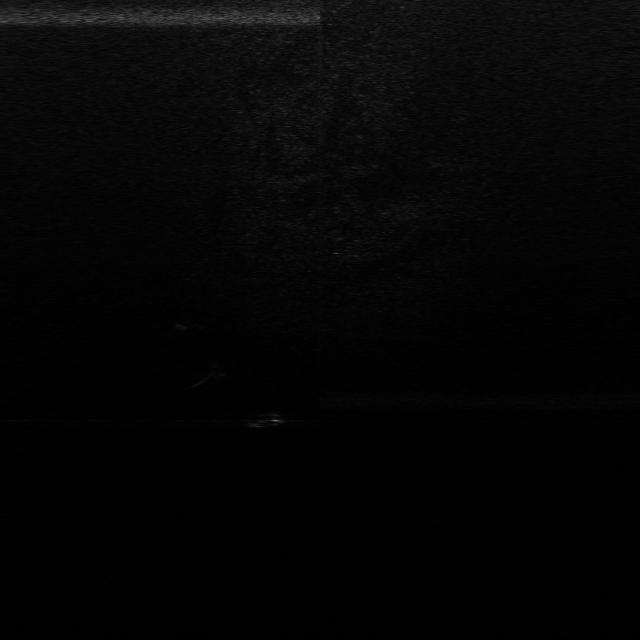ball: (207, 360, 236, 379)
circle cage: (170, 314, 194, 330)
tyre: (250, 412, 286, 428)
